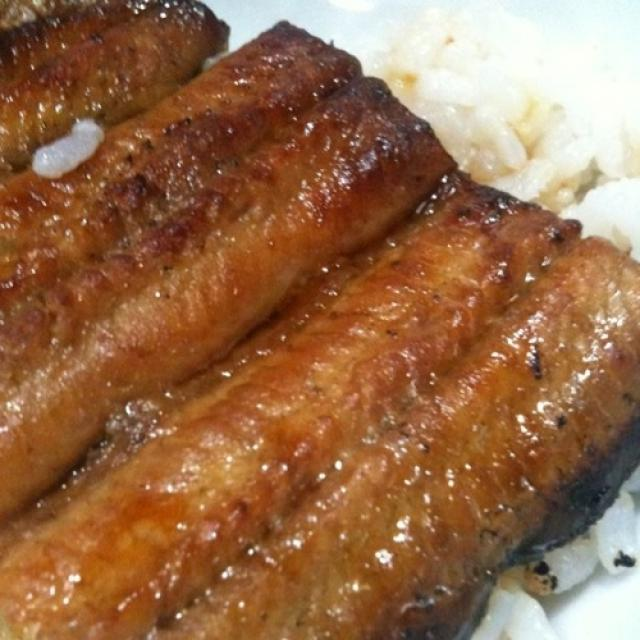熟制海鲜: (4, 3, 635, 631)
